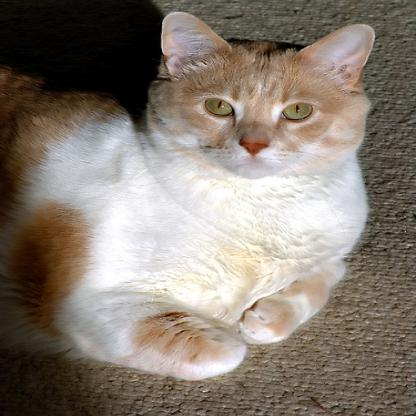cat: (0, 11, 375, 381)
